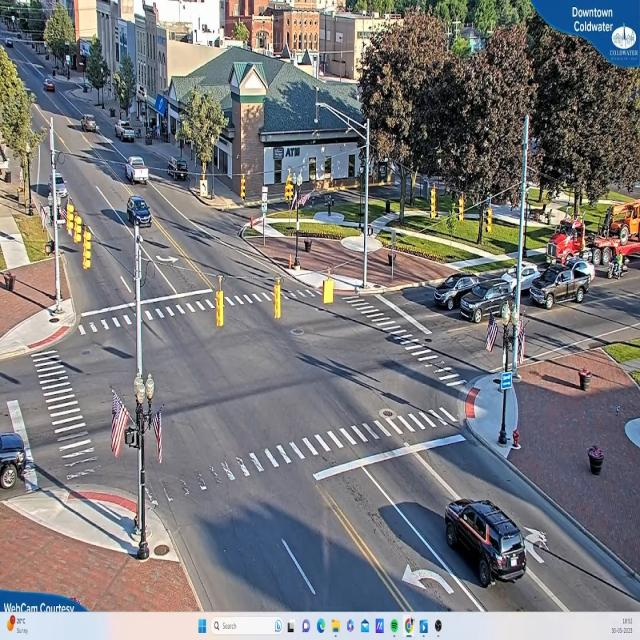car: (445, 499, 530, 587), (530, 256, 595, 308), (460, 284, 511, 328), (432, 272, 472, 309), (509, 259, 537, 290), (127, 196, 151, 225), (129, 156, 150, 184), (116, 121, 138, 143), (45, 81, 56, 92)
